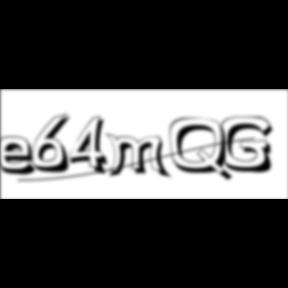4: (68, 115, 114, 179)
6: (32, 112, 78, 176)
G: (220, 116, 280, 176)
Q: (170, 117, 236, 184)
e: (0, 135, 44, 178)
m: (106, 132, 174, 181)
